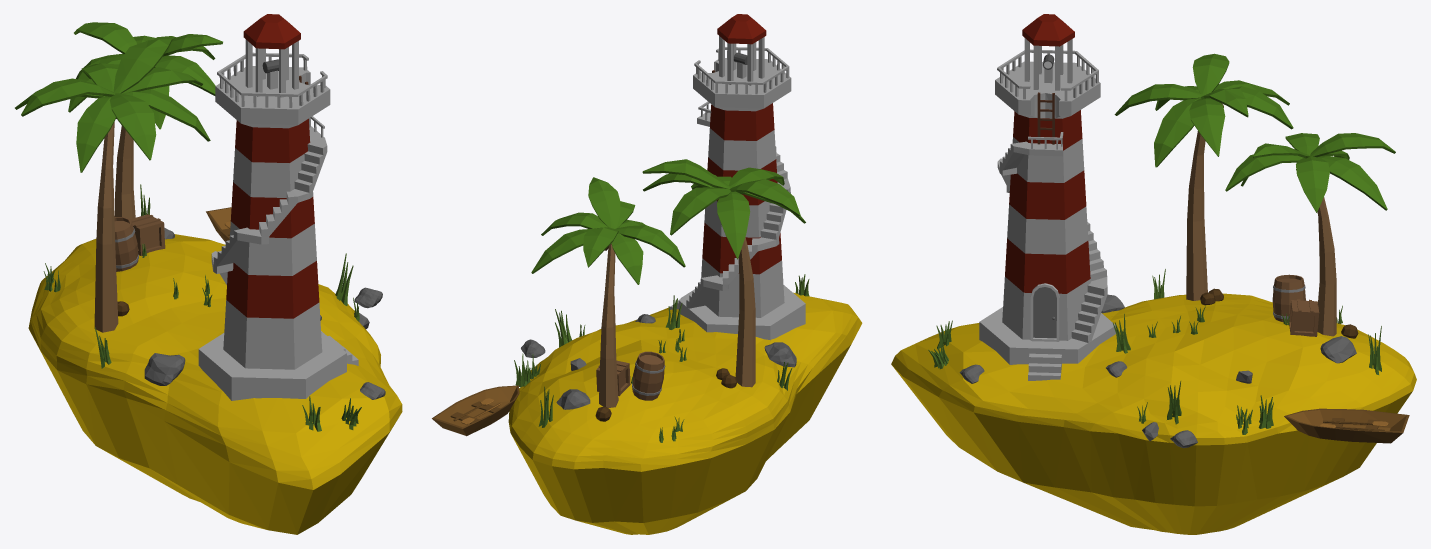
Rendered from durvesh121-sand-island.glb.
3 views of the same model, side by side, from view 1: azimuth 30°, elevation 25°; view 2: azimuth 150°, elevation 25°; view 3: azimuth 270°, elevation 25° (orthographic). The views are drawn at different scales.
Visible parts, largest first — view 1: rock.001, base, leaf 2, leaf, chunk 2, stairs, top tower, grass, rock, raling, chunk, Brarel (+2 smaller); view 2: rock.001, base, leaf 2, leaf, top tower, stairs, grass, chunk 2, Boat, chunk, rock, Brarel (+1 smaller); view 3: rock.001, base, leaf 2, leaf, Boat, stairs, grass, chunk 2, top tower, rock, chunk, door (+3 smaller).
Boxes of the visible parts, box(x1,y1,x2,y2) form: rock.001: box(28, 234, 402, 534); base: box(198, 66, 358, 400); leaf 2: box(15, 39, 210, 172); leaf: box(68, 22, 222, 129); chunk 2: box(94, 122, 118, 332); stairs: box(211, 126, 327, 284); top tower: box(243, 14, 300, 97); grass: box(43, 184, 361, 431); rock: box(144, 227, 385, 399); raling: box(217, 52, 327, 107); chunk: box(114, 125, 135, 218); Brarel: box(114, 217, 138, 271); rock.001: box(508, 292, 862, 534); base: box(670, 58, 805, 340); leaf 2: box(642, 159, 805, 259); leaf: box(531, 177, 685, 284); top tower: box(717, 14, 766, 85); stairs: box(686, 109, 790, 308); grass: box(514, 274, 809, 442); chunk 2: box(735, 237, 755, 387); Boat: box(432, 385, 519, 436); chunk: box(599, 243, 618, 407); rock: box(521, 314, 796, 409); Brarel: box(632, 351, 665, 400); rock.001: box(891, 293, 1416, 534); base: box(979, 61, 1115, 380); leaf 2: box(1114, 53, 1293, 167); leaf: box(1225, 133, 1395, 212); Boat: box(1284, 408, 1409, 443); stairs: box(997, 141, 1107, 342); grass: box(928, 269, 1381, 434); chunk 2: box(1186, 131, 1207, 300); top tower: box(1022, 14, 1074, 90); rock: box(959, 294, 1356, 448); chunk: box(1317, 197, 1336, 336); door: box(1030, 283, 1059, 341).
Bounding box in the file's own units: 7.36 × 10.86 × 10.6.
Materials: 1 (1 with a texture image).
